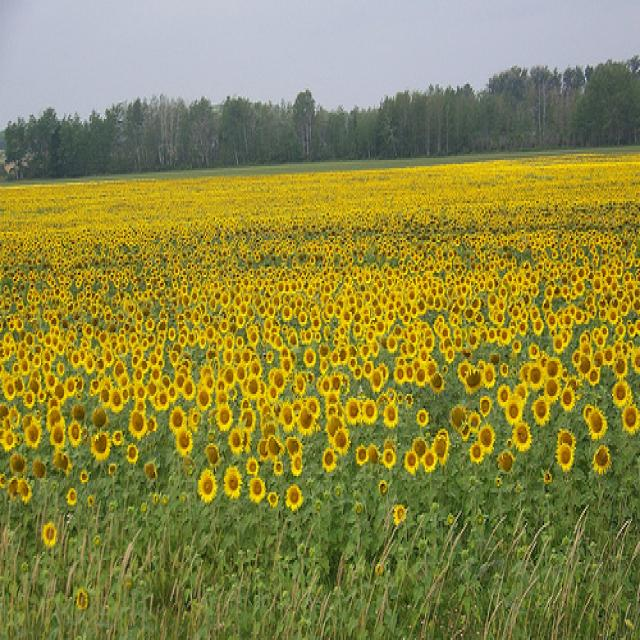sunflower: (590, 442, 613, 477), (511, 421, 534, 455), (220, 466, 242, 499), (295, 403, 317, 436), (588, 406, 608, 442), (462, 365, 484, 396), (611, 378, 631, 410), (429, 432, 450, 462), (197, 466, 214, 502), (526, 363, 546, 393), (382, 394, 399, 429), (278, 402, 296, 435), (126, 403, 144, 436), (174, 430, 195, 458), (495, 448, 514, 477), (284, 483, 306, 508), (262, 432, 282, 458), (238, 407, 257, 434), (428, 368, 448, 393), (369, 367, 387, 394), (125, 441, 143, 468), (478, 421, 495, 449), (320, 450, 339, 475), (244, 374, 263, 399), (195, 386, 213, 412), (247, 477, 264, 504), (215, 404, 232, 431), (330, 428, 348, 452), (404, 447, 420, 474), (180, 374, 196, 401), (228, 426, 242, 456), (394, 501, 409, 529), (272, 368, 290, 391), (347, 397, 362, 424), (362, 396, 377, 422), (498, 383, 513, 409), (289, 454, 307, 475), (379, 443, 394, 468), (320, 373, 333, 398), (472, 438, 484, 465), (116, 366, 130, 389), (416, 364, 428, 389), (335, 346, 351, 364), (265, 488, 280, 507), (155, 390, 169, 410), (224, 366, 236, 389), (355, 445, 368, 466), (465, 326, 478, 347), (303, 348, 318, 366), (384, 334, 398, 353), (417, 406, 428, 429), (392, 363, 404, 384), (203, 325, 217, 342), (166, 351, 183, 365), (286, 332, 300, 349), (422, 333, 434, 352), (282, 303, 293, 323), (444, 347, 457, 363), (132, 368, 144, 385), (353, 309, 364, 327), (144, 318, 158, 332), (248, 328, 259, 345), (488, 291, 499, 308), (166, 327, 178, 342), (397, 305, 408, 319), (324, 302, 334, 317), (238, 300, 248, 315), (310, 317, 320, 329), (266, 351, 274, 365), (471, 452, 476, 456)
